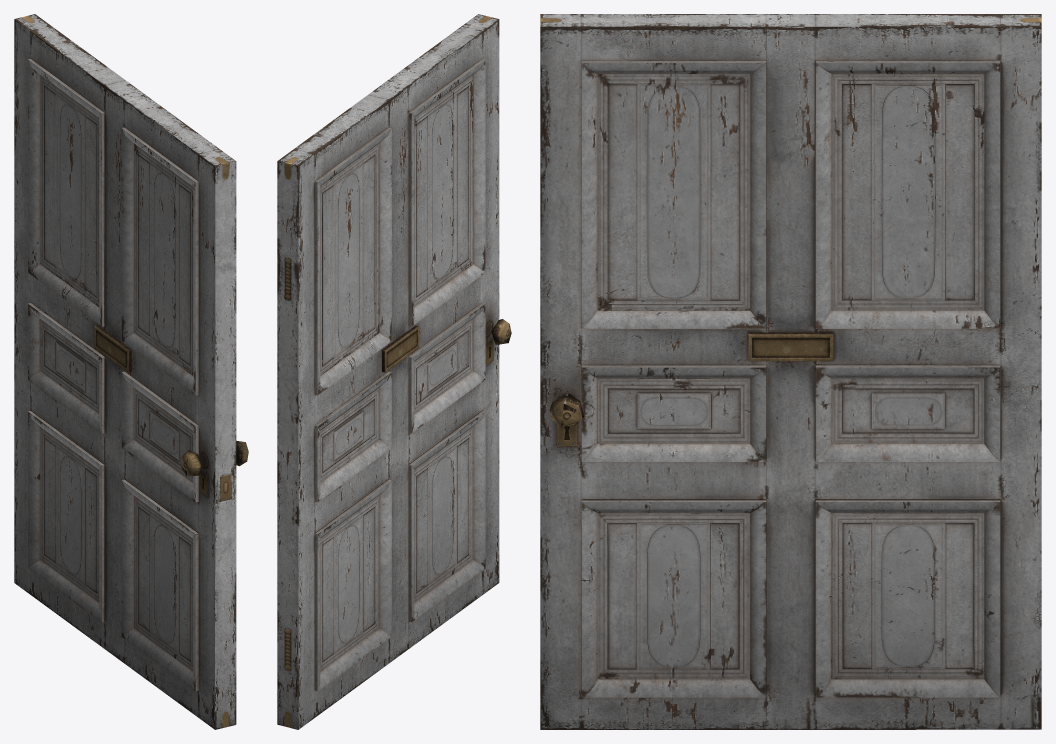
The model's file is SM_door_wall_A_int_doorway_4x4_01.fbx.
3 renders of one model, left to right at view 1: azimuth 30°, elevation 25°; view 2: azimuth 150°, elevation 25°; view 3: azimuth 270°, elevation 25°, orthographic. The views are drawn at different scales.
Parts seen in each view (by area): view 1: SM_door_wall_A_int_doorway_4x4_01_LOD0; view 2: SM_door_wall_A_int_doorway_4x4_01_LOD0; view 3: SM_door_wall_A_int_doorway_4x4_01_LOD0.
Boxes of the visible parts, <box> form: SM_door_wall_A_int_doorway_4x4_01_LOD0: <box>14,14,248,729</box>; SM_door_wall_A_int_doorway_4x4_01_LOD0: <box>277,14,511,729</box>; SM_door_wall_A_int_doorway_4x4_01_LOD0: <box>540,14,1041,729</box>.
Size of the model in its own units: 27.61 by 160 by 248.
1 material, 1 textured.
